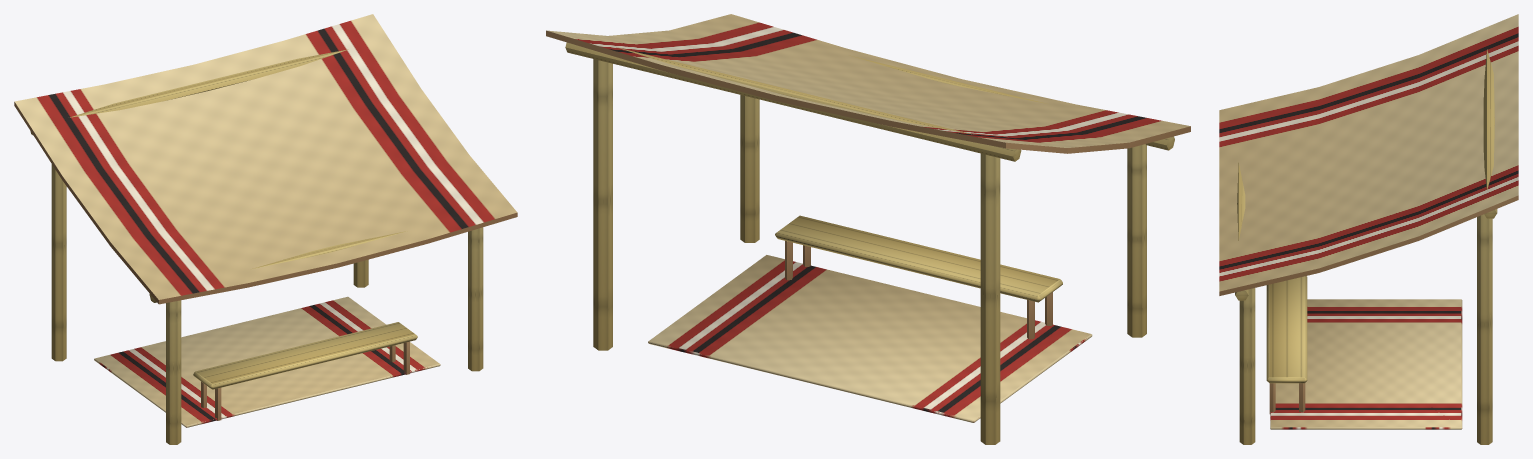
File: market_stall_mat.glb
3 renders of one model, left to right at view 1: azimuth 30°, elevation 25°; view 2: azimuth 150°, elevation 25°; view 3: azimuth 270°, elevation 25°, orthographic. The views are drawn at different scales.
Parts seen in each view (by area): view 1: market_stall_mat; view 2: market_stall_mat; view 3: market_stall_mat.
Part boxes in pixels (bbox=[...]): market_stall_mat: bbox=[14, 14, 517, 444]; market_stall_mat: bbox=[546, 14, 1190, 444]; market_stall_mat: bbox=[1219, 14, 1518, 444].
Bounding box in the file's own units: 3.8 × 2.55 × 2.65.
1 material, 1 textured.
